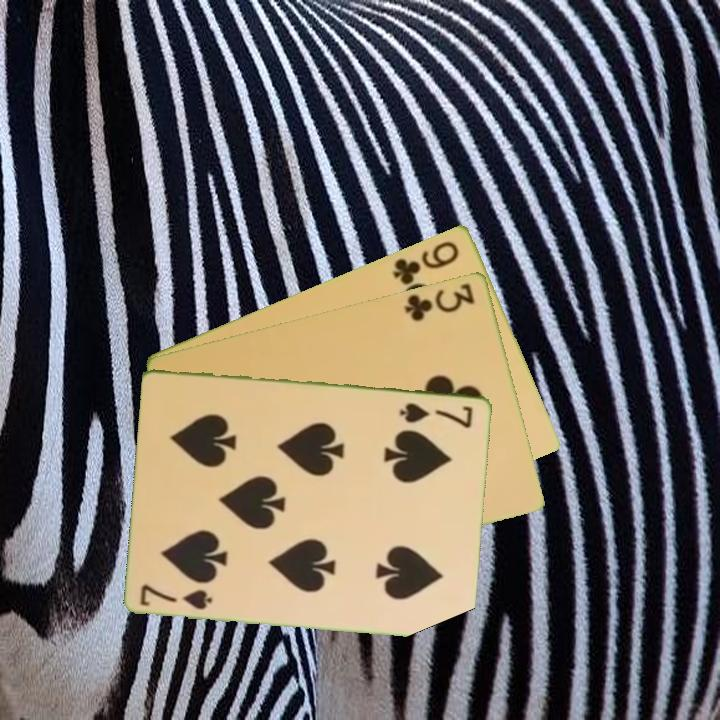3c: (401, 279, 478, 324)
7s: (397, 398, 476, 430), (137, 580, 215, 612)
9c: (389, 236, 462, 287)
